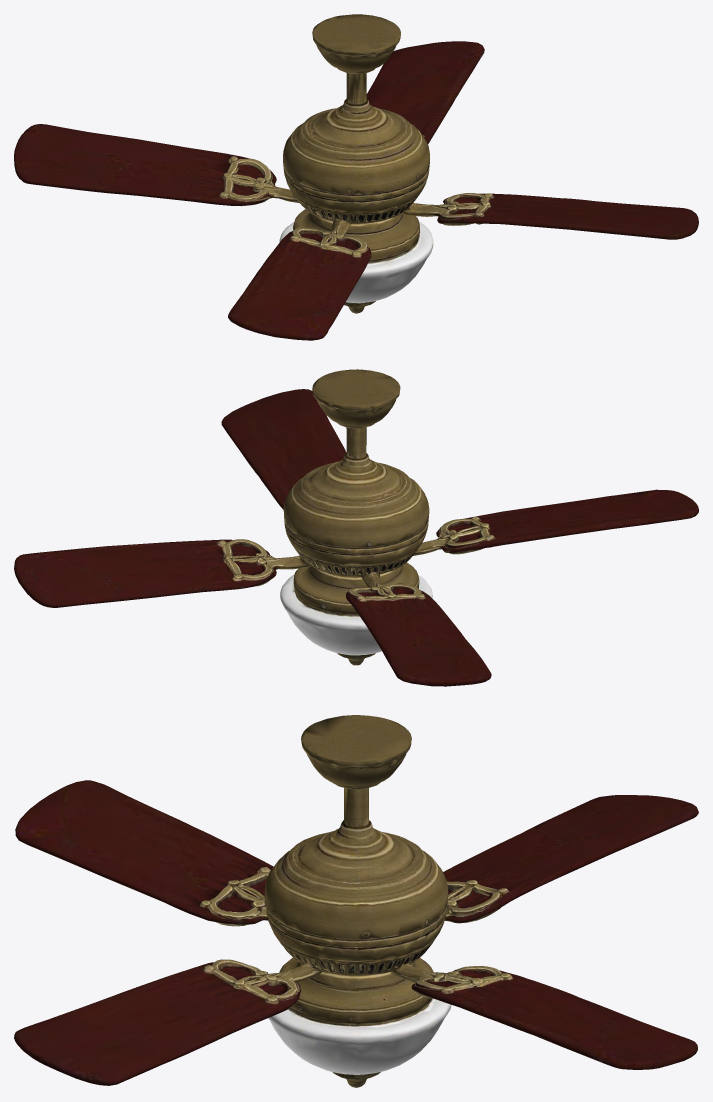
Rendered from fan.glb.
The picture shows the model from 3 angles, top to bottom: view 1: azimuth 30°, elevation 25°; view 2: azimuth 150°, elevation 25°; view 3: azimuth 270°, elevation 25°; orthographic projection. The views are drawn at different scales.
Size of the model in its own units: 1.88 by 1.07 by 1.9.
Materials: 1 (1 with a texture image).
